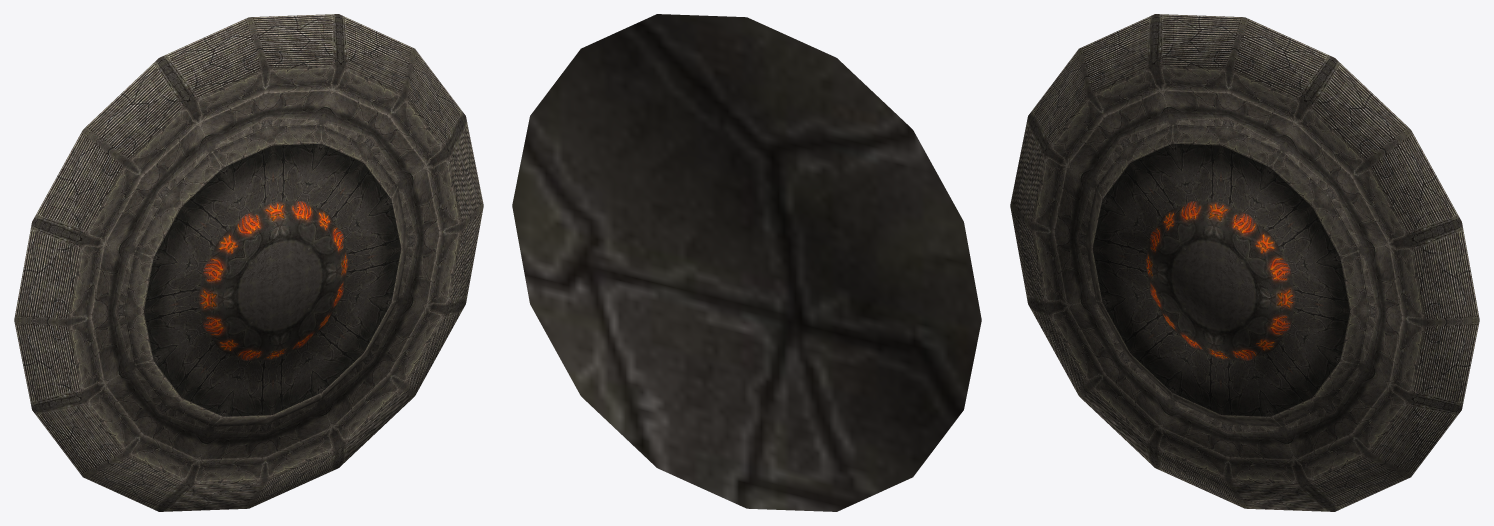
Rendered from arena_05.obj.
The picture shows the model from 3 angles, left to right: view 1: azimuth 30°, elevation 25°; view 2: azimuth 150°, elevation 25°; view 3: azimuth 330°, elevation 25°; orthographic projection.
Visible parts, largest first — view 1: (null); view 2: (null); view 3: (null).
Boxes of the visible parts, x1,y1,x2,y2 form: (null): (14,14,483,511); (null): (512,14,981,511); (null): (1010,14,1479,511).
Bounding box in the file's own units: 5.88 × 5.88 × 0.7004.
